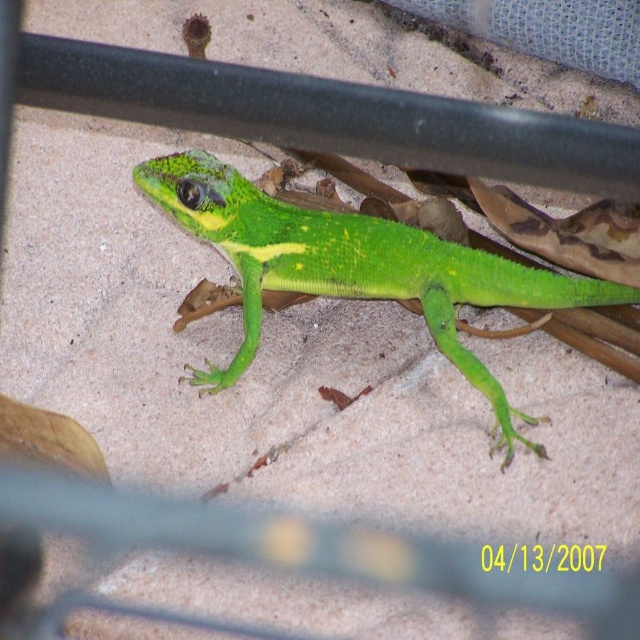Lizard: (132, 149, 640, 475)
